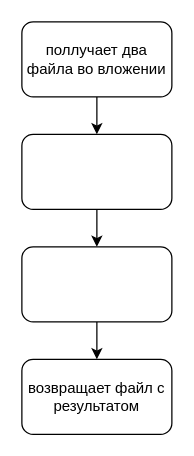
This 194x456 diagram has some shape labels left out. The shapes that lost their labels are listed below. From the top down, each one's centre as x and y in pixels, then its label:
At point (96, 171): "проверяет что эти файлы подходят".
At point (96, 284): "обрабатывает эти файлы".
